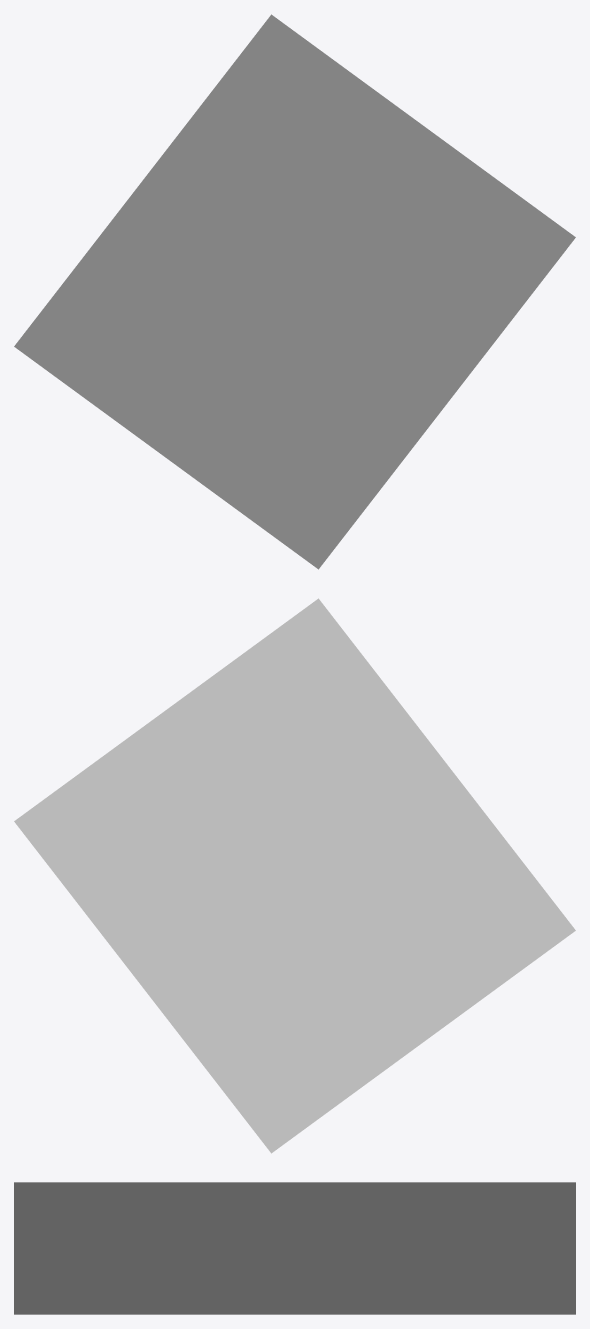
The model's file is PantallaEXPORT.glb.
3 views of the same model, one above another, from view 1: azimuth 30°, elevation 25°; view 2: azimuth 150°, elevation 25°; view 3: azimuth 270°, elevation 25° (orthographic). The views are drawn at different scales.
Visible parts, largest first — view 1: PANTALLACONSOLA; view 2: PANTALLACONSOLA; view 3: PANTALLACONSOLA.
Boxes of the visible parts, x1,y1,x2,y2 form: PANTALLACONSOLA: (14, 14, 575, 569); PANTALLACONSOLA: (14, 598, 575, 1153); PANTALLACONSOLA: (14, 1182, 575, 1314).
Size of the model in its own units: 0.6232 by 0.6232 by 1.28.
Materials: 1 (1 with a texture image).
